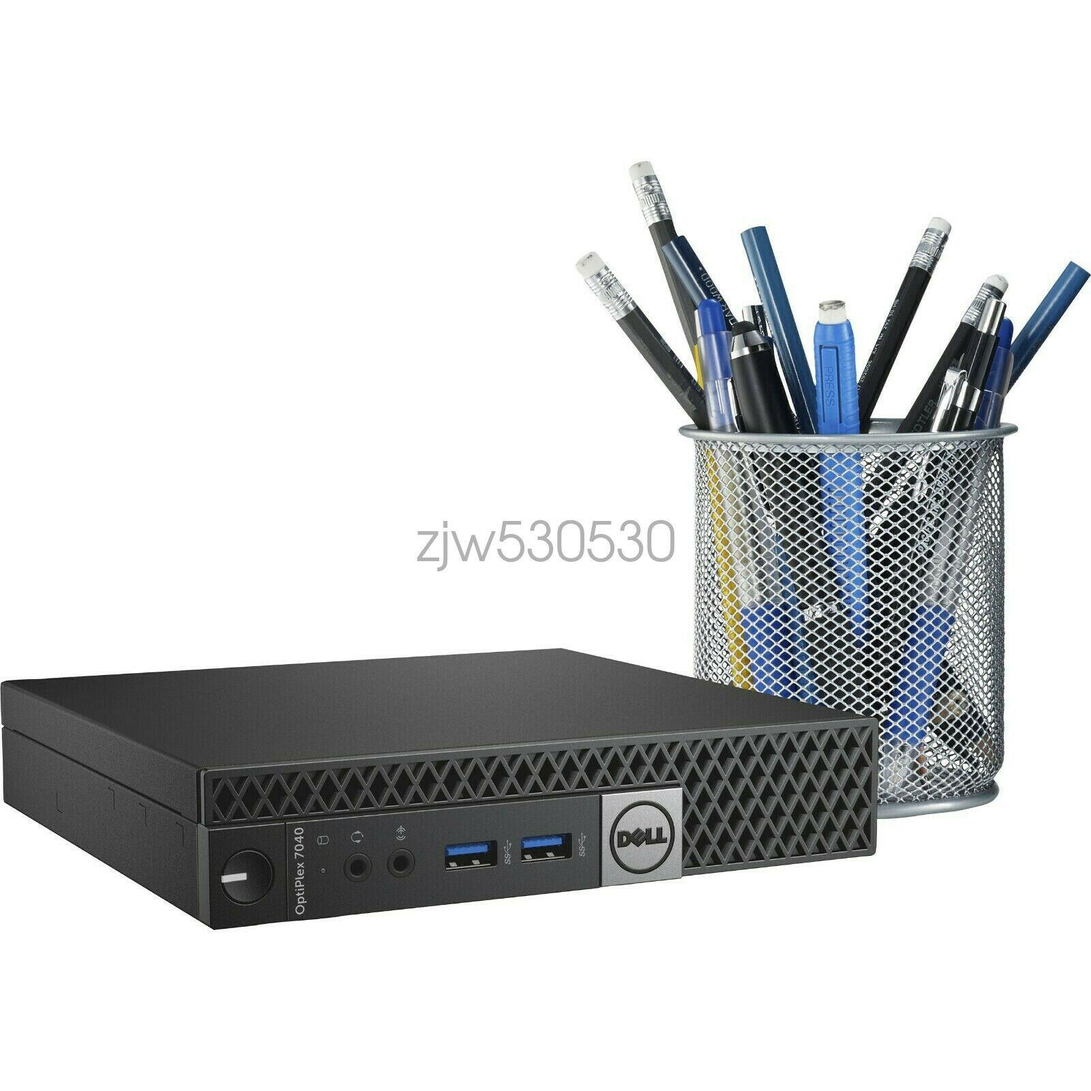DESKTOP PC: (0, 648, 895, 929)
